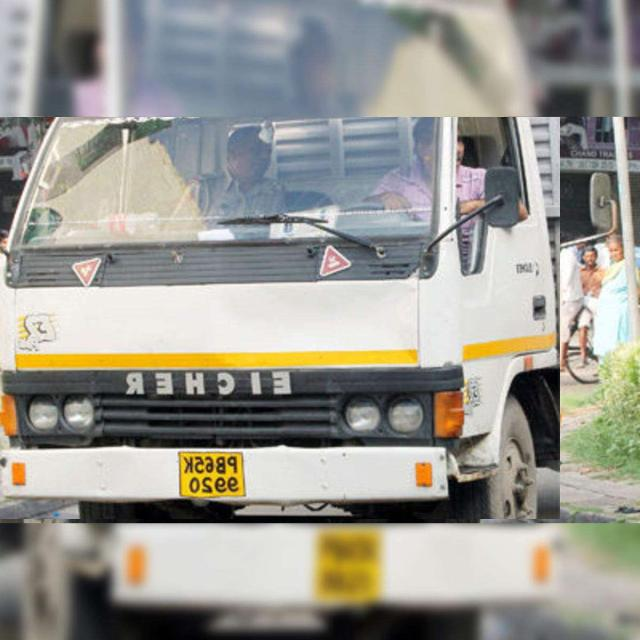truck: (0, 117, 560, 519)
